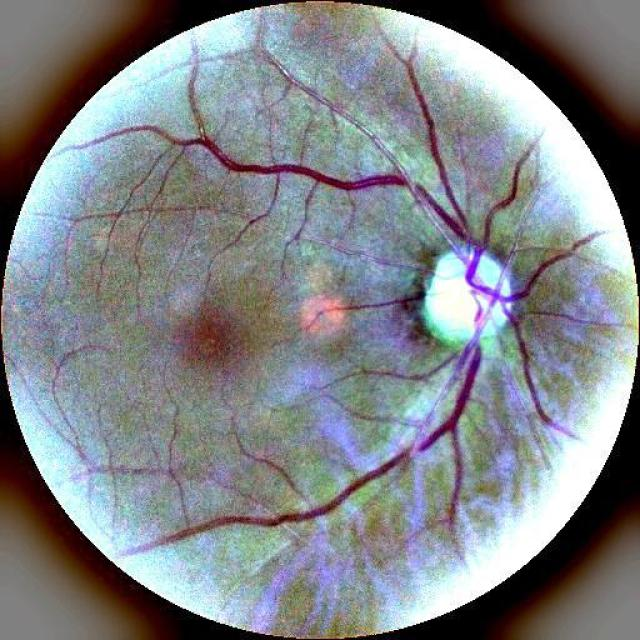Nerves: (110, 51, 601, 449), (306, 290, 420, 328), (176, 304, 234, 366), (340, 351, 461, 380)
Optic Disk: (421, 245, 515, 348)
